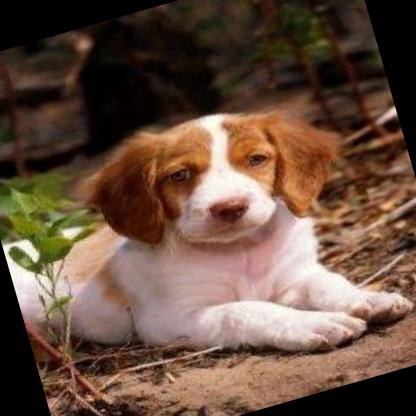English_setter: (0, 71, 416, 416)
